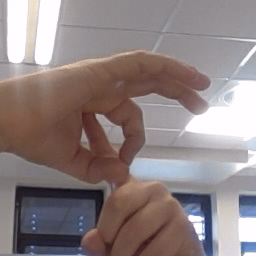OE: (2, 47, 212, 256)
